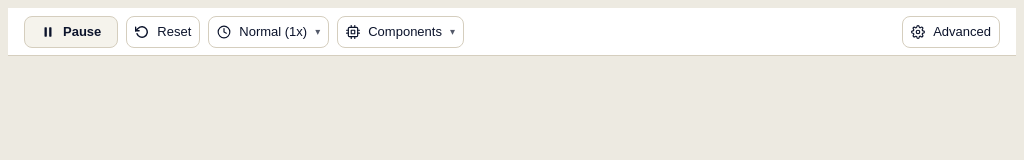
Scenario: CircuitToolbar (Task 42 / CIRC-5) › toggles simulation running state on run/pause button click
Step 1. Click the button with test id "circuit-run-pause-btn" → [71, 32], box [24,16,118,48]
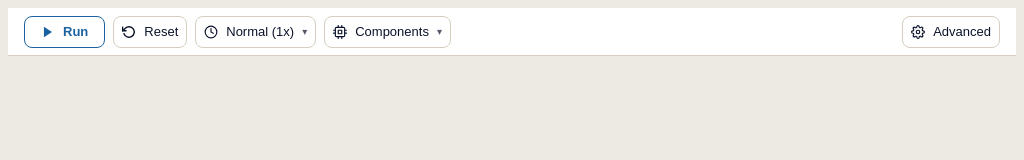
Now the button with test id "circuit-run-pause-btn" reads "Run", box [24,16,105,48]
